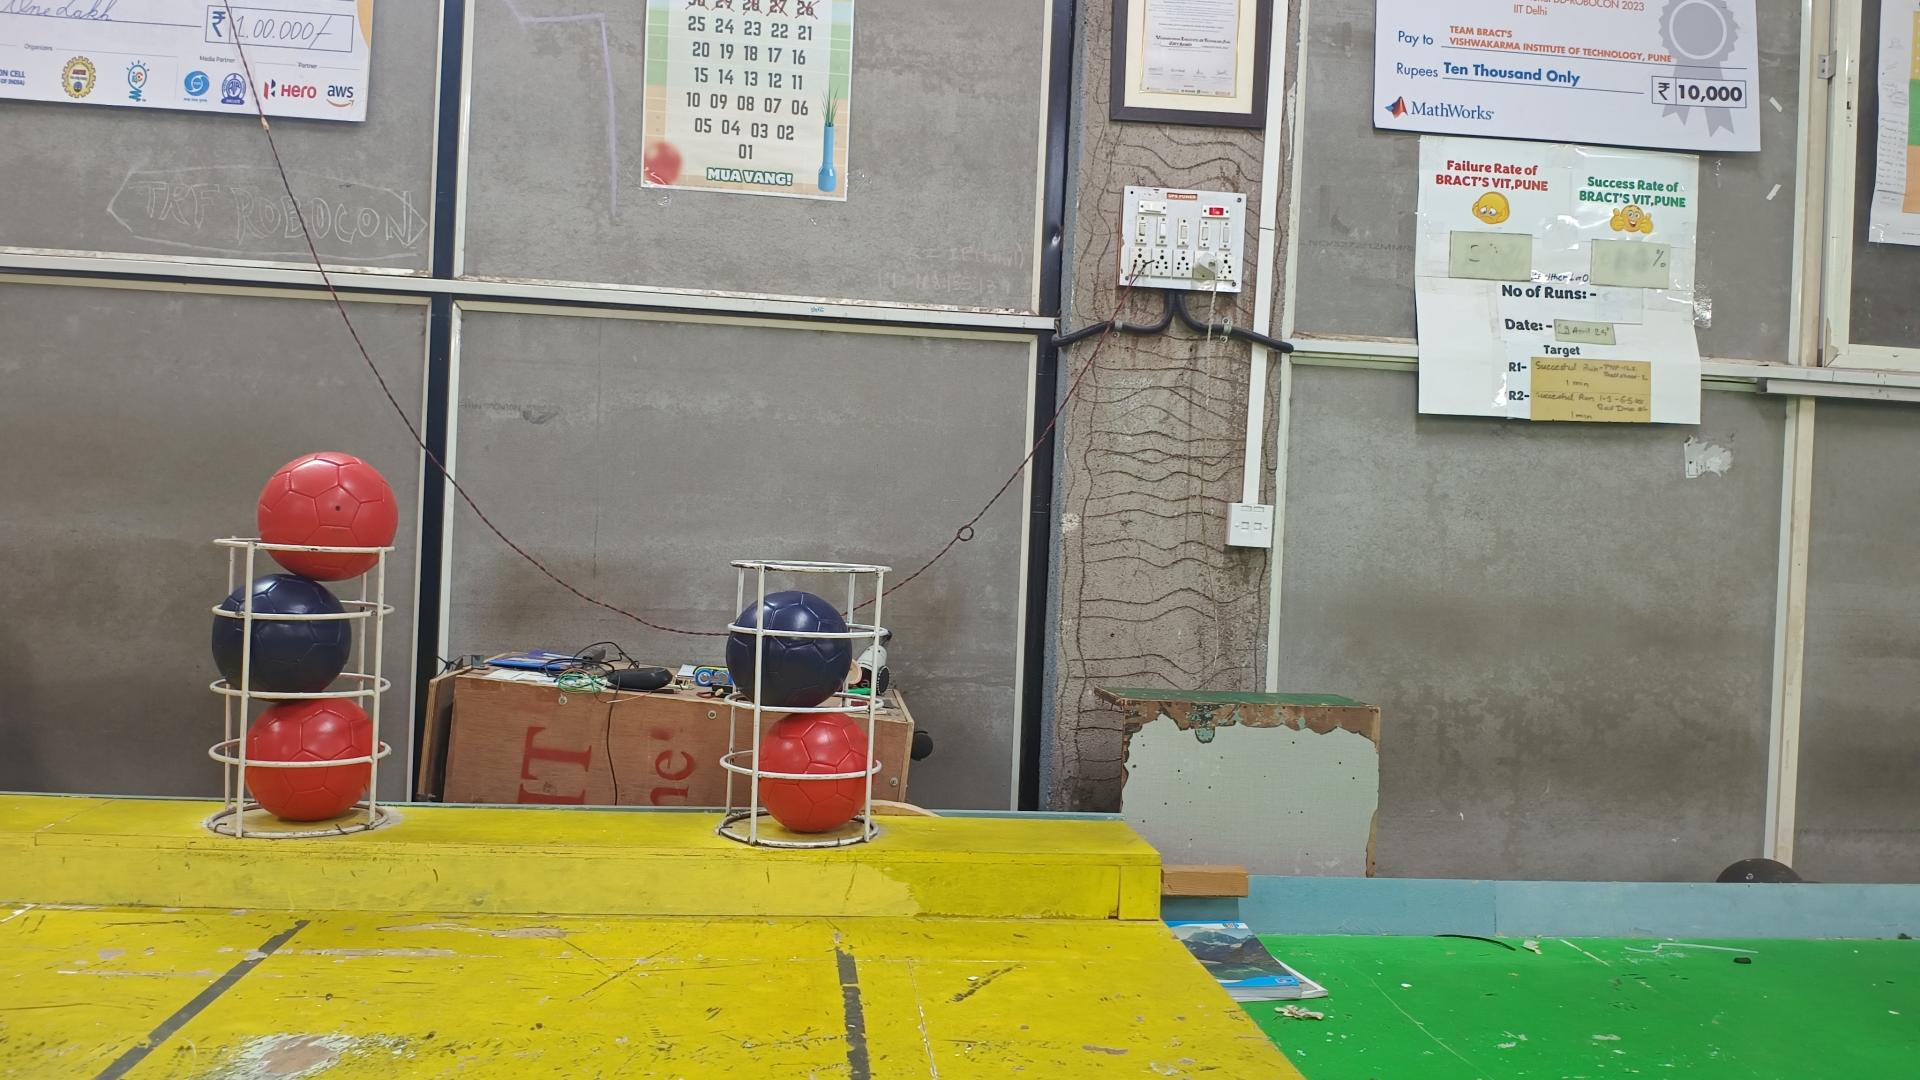dhoka: (212, 574, 351, 694), (724, 591, 852, 707)
laale: (256, 452, 400, 583), (247, 699, 373, 819), (758, 713, 866, 833)
